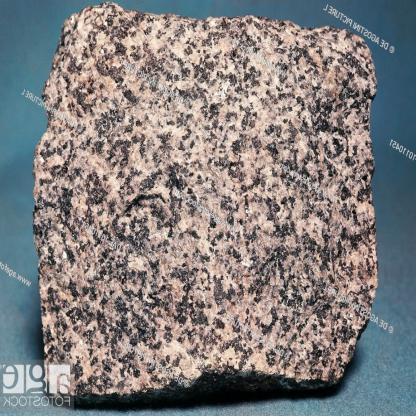Igneous_Diorite: (27, 2, 380, 408)
